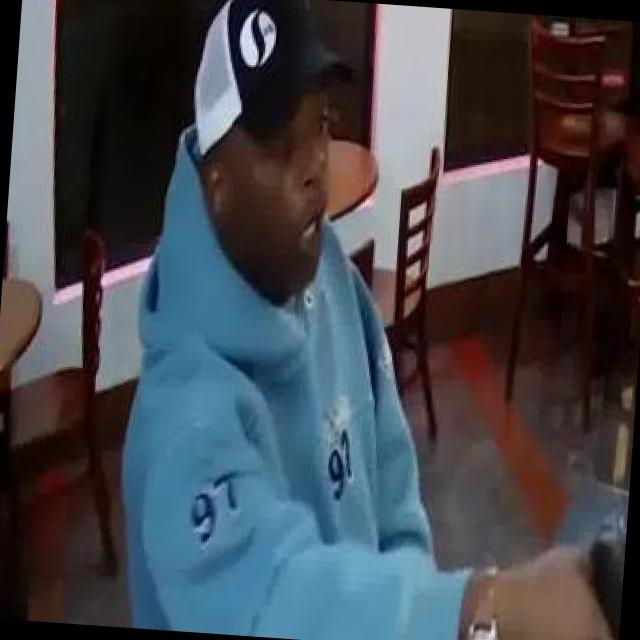Guns: (555, 503, 628, 640)
